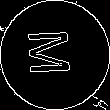M_E: (28, 30, 82, 80)
